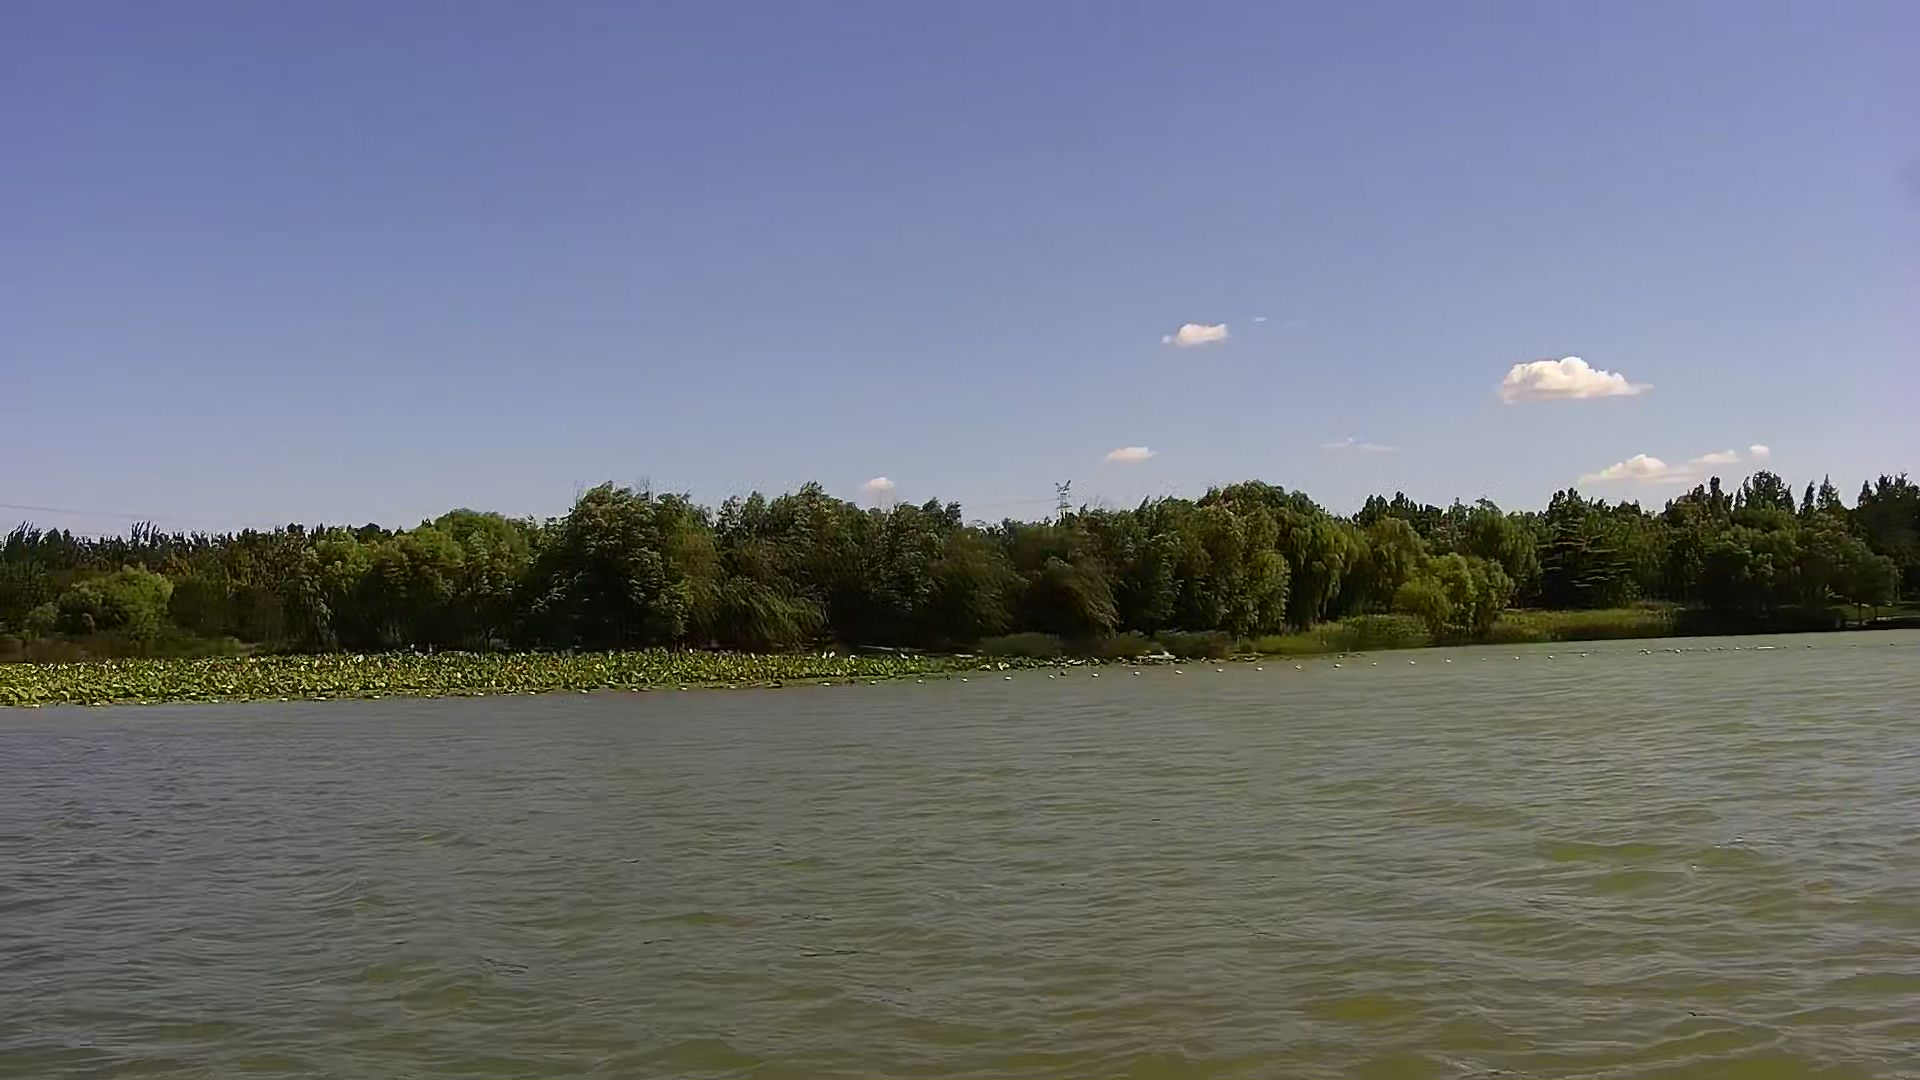grass: (1, 649, 913, 702)
